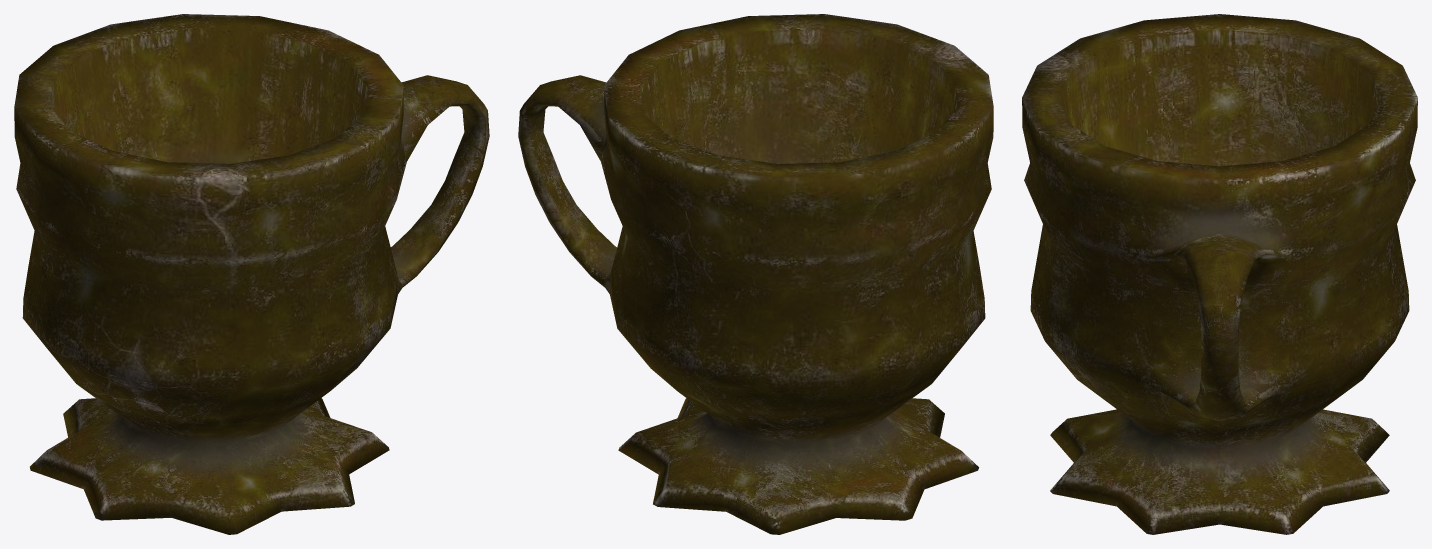
File: cup.glb
3 views of the same model, side by side, from view 1: azimuth 30°, elevation 25°; view 2: azimuth 150°, elevation 25°; view 3: azimuth 270°, elevation 25° (orthographic).
Visible parts, largest first — view 1: trn_CupCeramic; view 2: trn_CupCeramic; view 3: trn_CupCeramic.
Part boxes in pixels (box(x1,y1,x2,y2)): trn_CupCeramic: box(14, 14, 489, 534); trn_CupCeramic: box(518, 14, 993, 534); trn_CupCeramic: box(1022, 14, 1417, 534).
Size of the model in its own units: 0.2139 by 0.1655 by 0.1625.
Materials: 1 (1 with a texture image).
